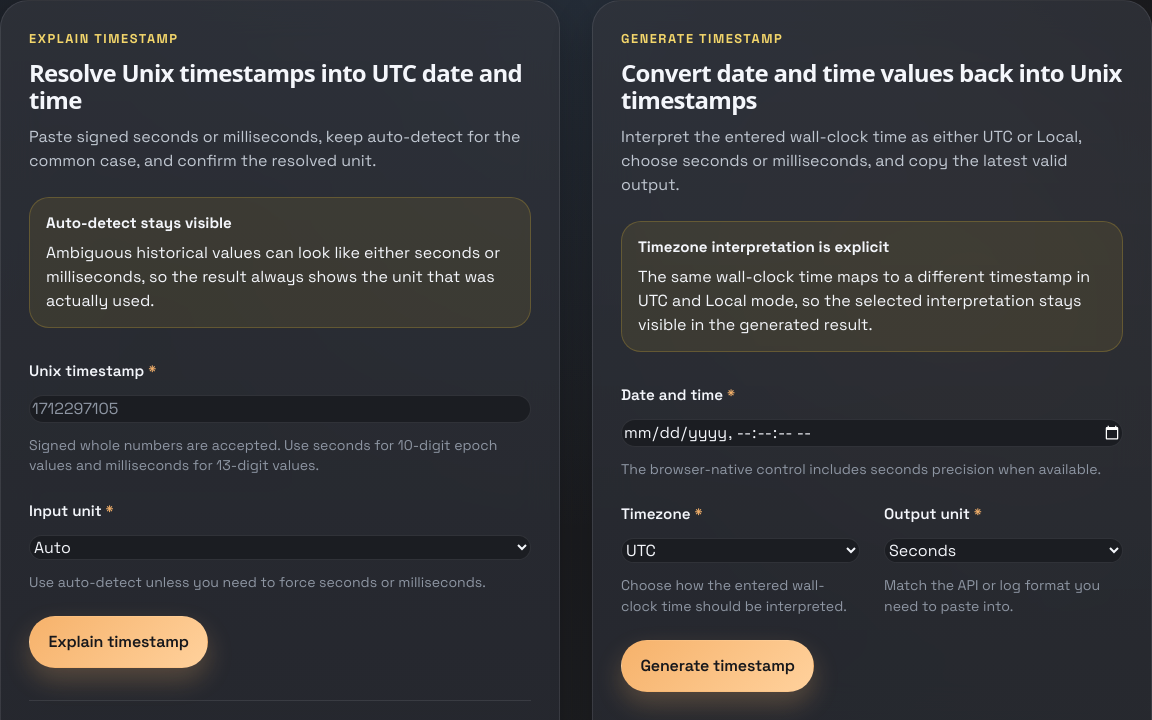
Test: Timestamp tool flow › shows validation feedback without producing a new explanation result
The width and height of the screenshot is (1152, 720).
Click the button "Explain timestamp". click: [119, 642]
box: [29, 616, 208, 668]
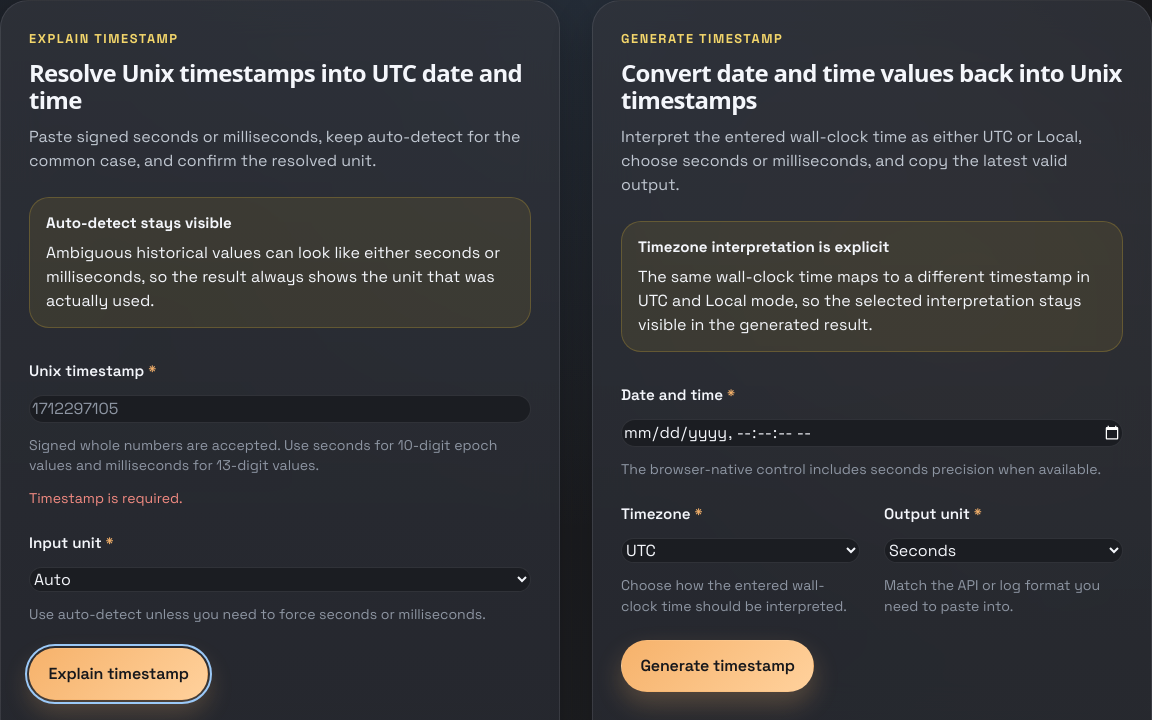
Expected: the text "Timestamp is required." is shown, [29, 489, 183, 507]
